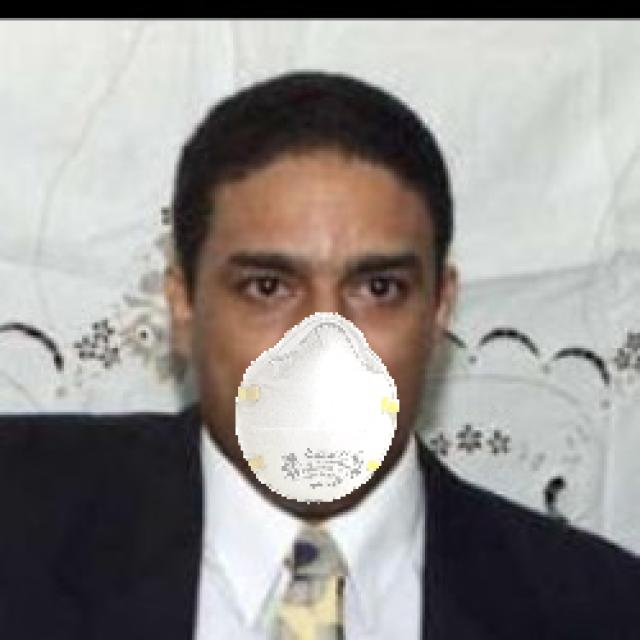mask: (228, 324, 418, 516)
